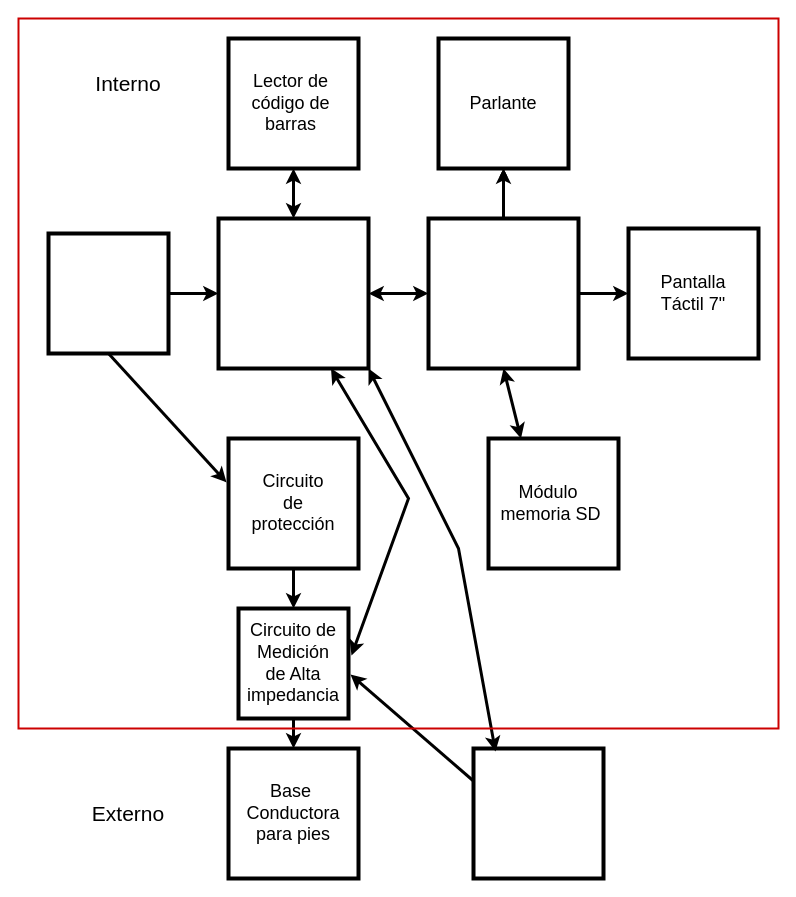
Image size: 796x897. Some labels were removed from this diagram. The shapes that lost their labels are listed below. From the top down, each one's centre as x and y in pixels, then its label:
At (x=108, y=293): "Circuito de Alimentación".
At (x=293, y=293): "Microcontrolador Central".
At (x=503, y=293): "Microcontrolador Pantalla".
At (x=538, y=813): "Circuito de calibración/ validación".
